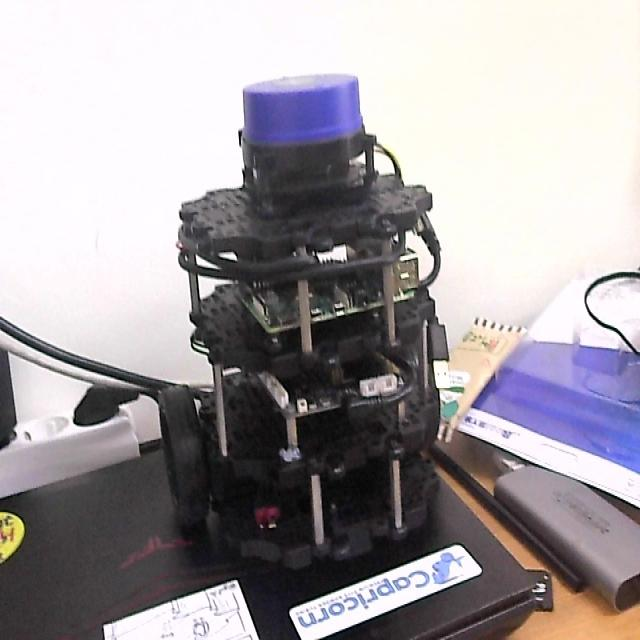turtle: (157, 73, 452, 574)
